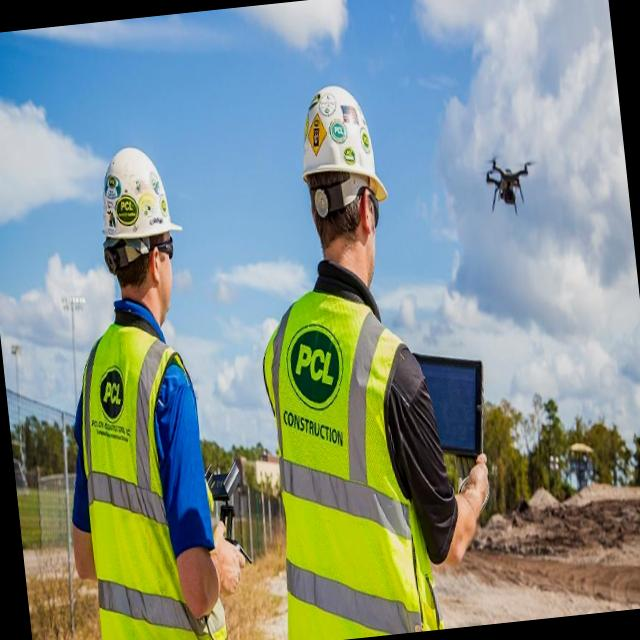goggles: (148, 229, 180, 263)
helmet: (290, 84, 388, 215), (95, 140, 187, 248)
vest: (261, 269, 439, 640), (74, 315, 211, 640)
